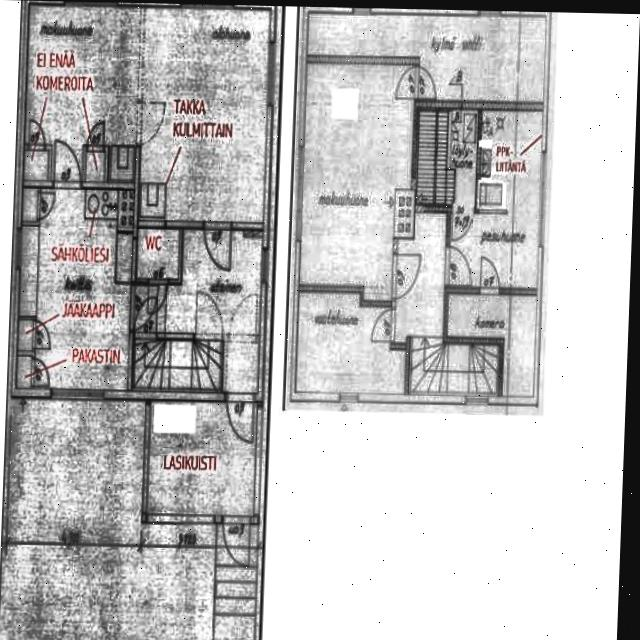room: (138, 6, 271, 224), (16, 187, 134, 391), (23, 3, 141, 183), (307, 13, 546, 101), (449, 109, 542, 289), (147, 399, 258, 518), (296, 293, 407, 394), (445, 293, 536, 397), (414, 108, 478, 208), (136, 229, 180, 281)
